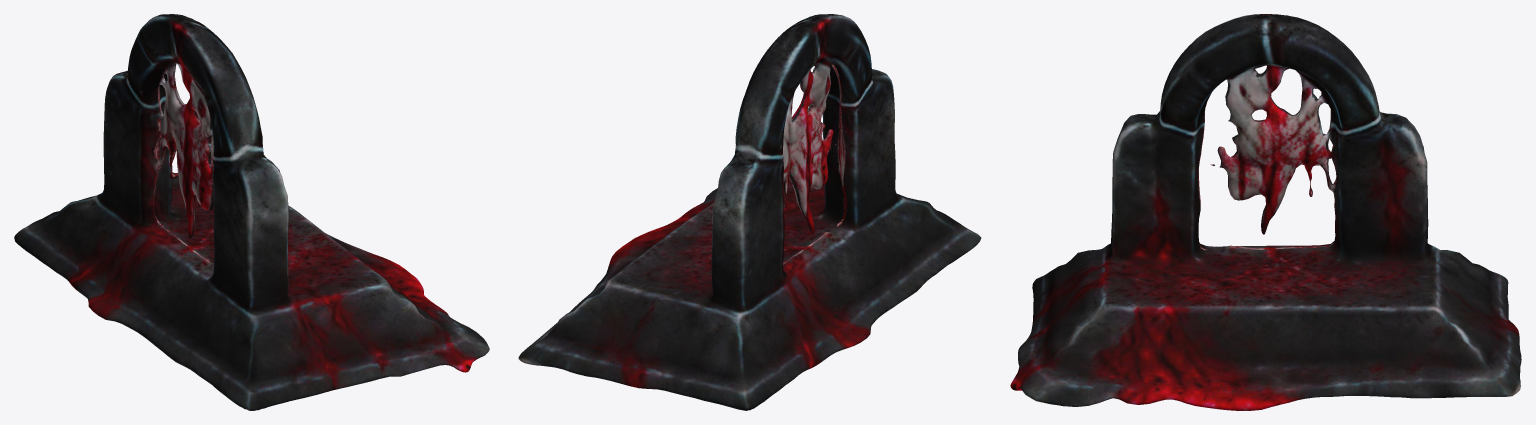
File: Alter 2.fbx
3 views of the same model, side by side, from view 1: azimuth 30°, elevation 25°; view 2: azimuth 150°, elevation 25°; view 3: azimuth 270°, elevation 25° (orthographic).
Visible parts, largest first — view 1: mesh; view 2: mesh; view 3: mesh.
Boxes of the visible parts, bbox=[...] form: mesh: bbox=[14, 14, 489, 410]; mesh: bbox=[518, 14, 981, 410]; mesh: bbox=[1010, 14, 1521, 410].
Bounding box in the file's own units: 62.83 × 63.93 × 99.63.
